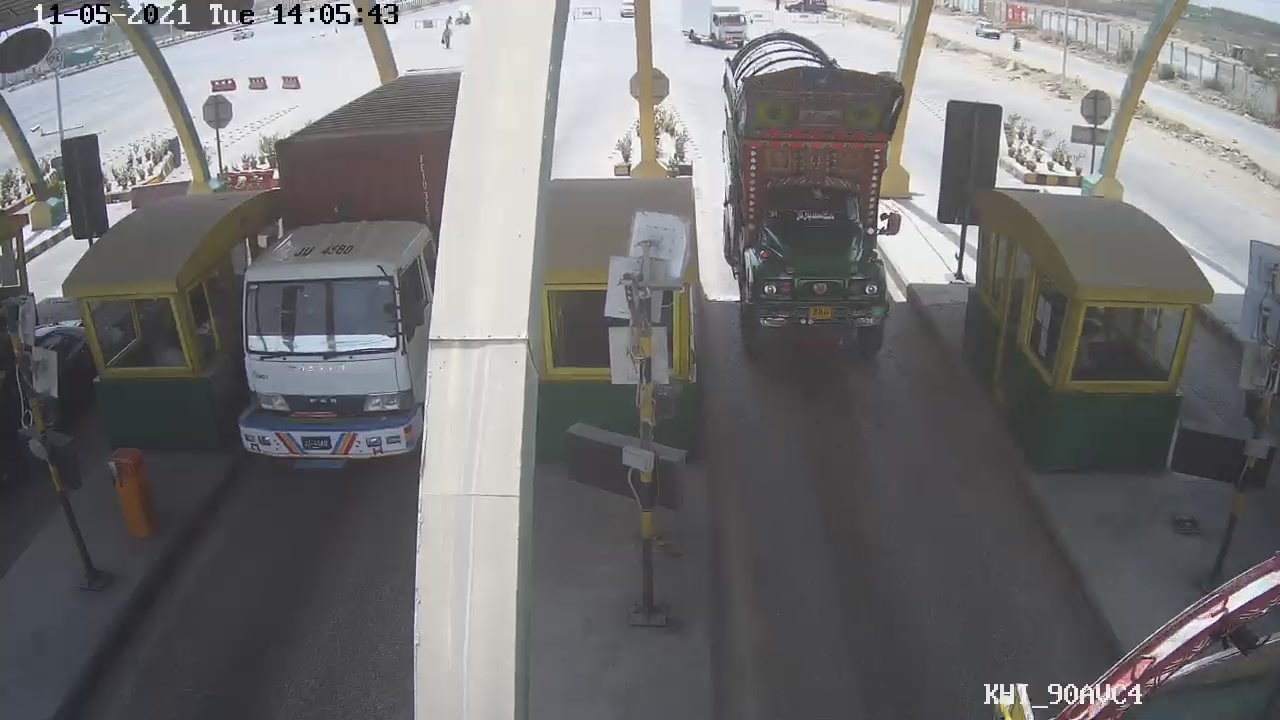F5: (711, 31, 918, 369)
